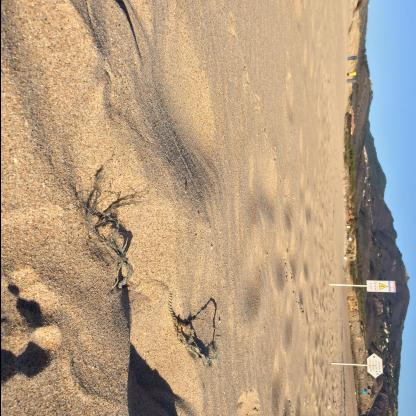diger: (84, 192, 136, 288), (166, 290, 216, 367)
